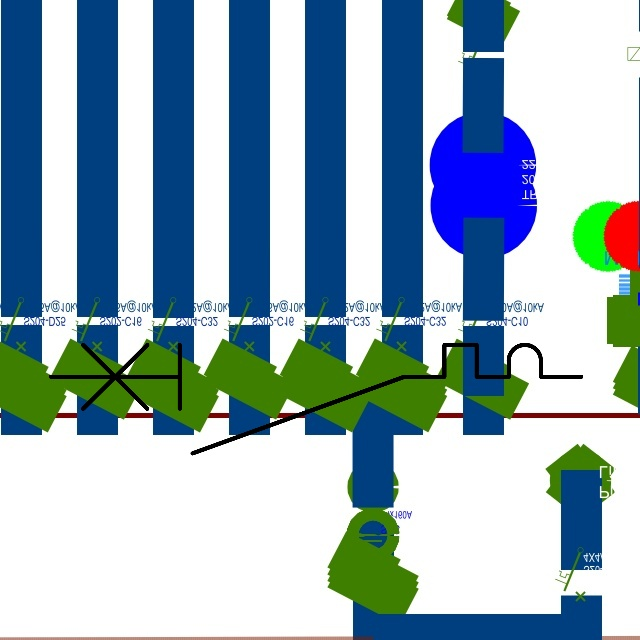interruptor_termomagnetico: (37, 331, 595, 467)
